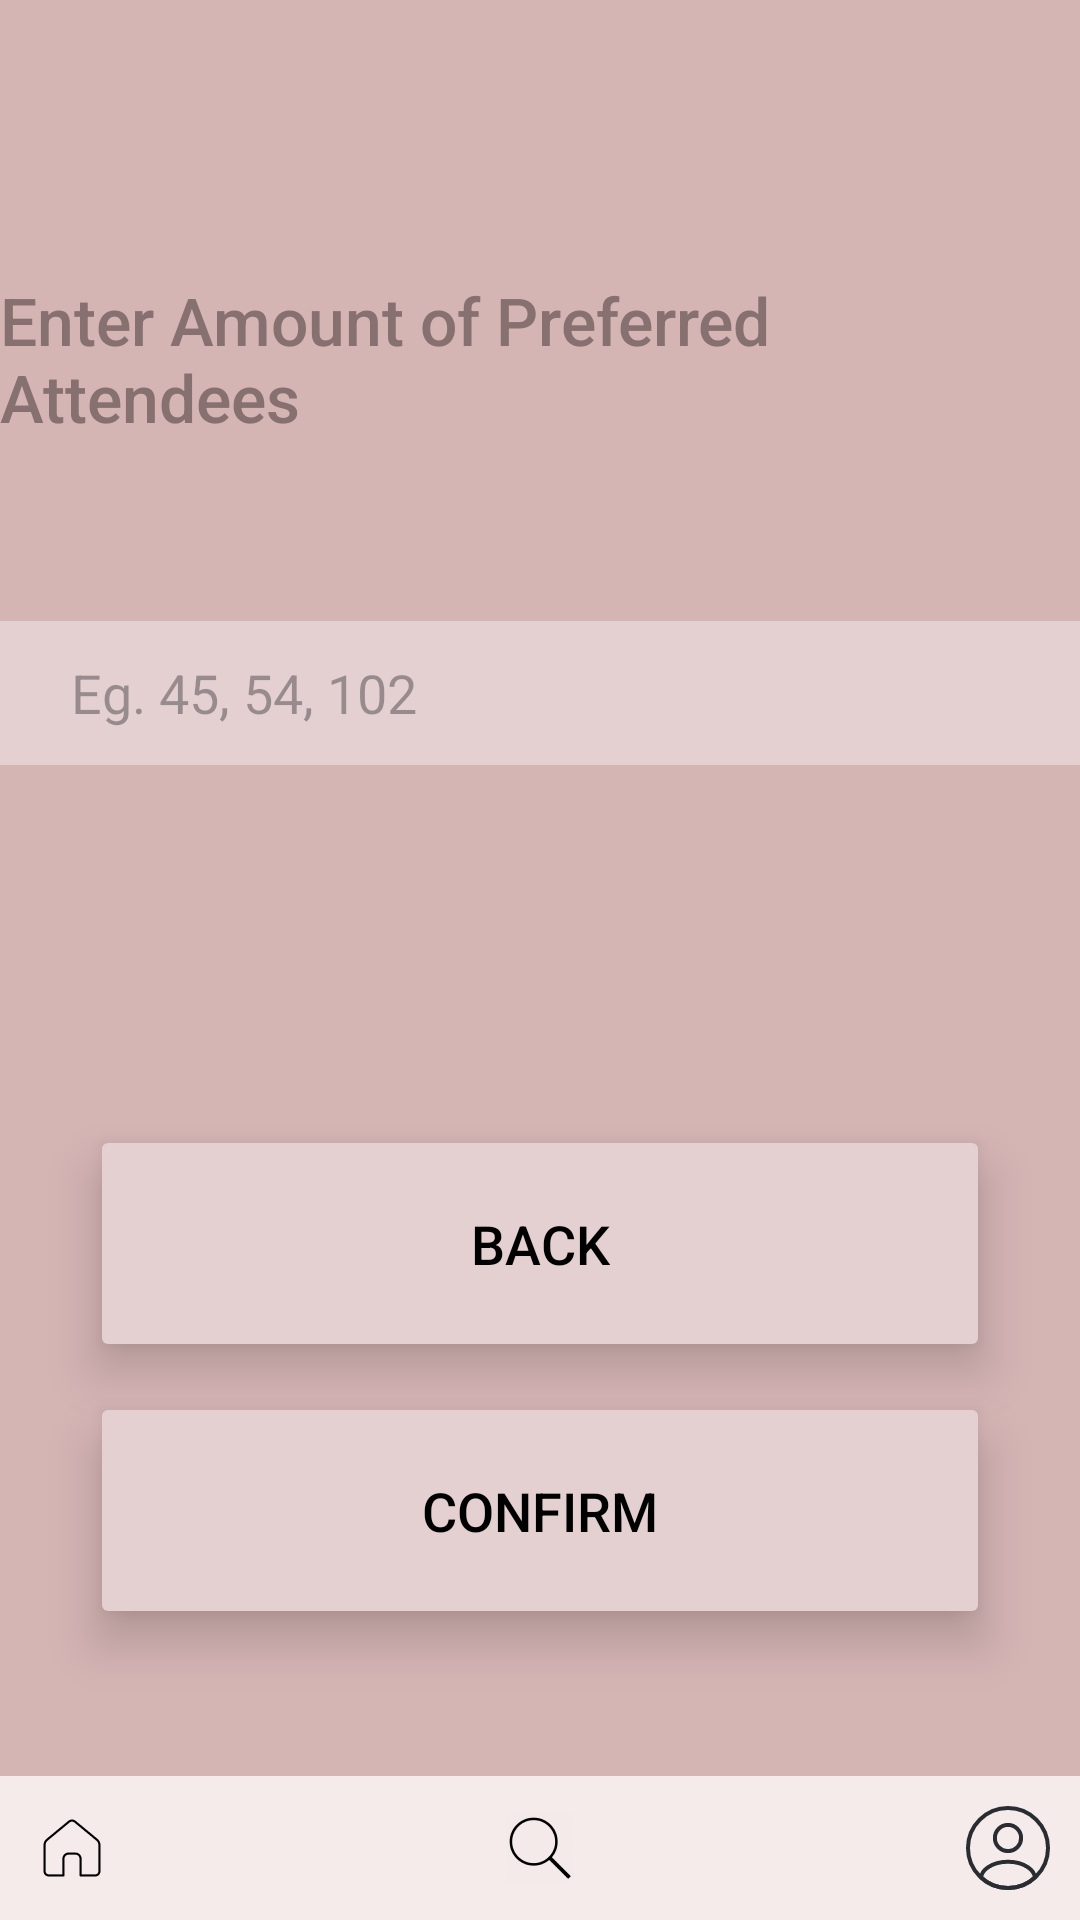

Icons on this 1080w x 1920h Android screen, each with its box as (x1, y1, x2, y2):
profile tiny: (966, 1806, 1050, 1890)
